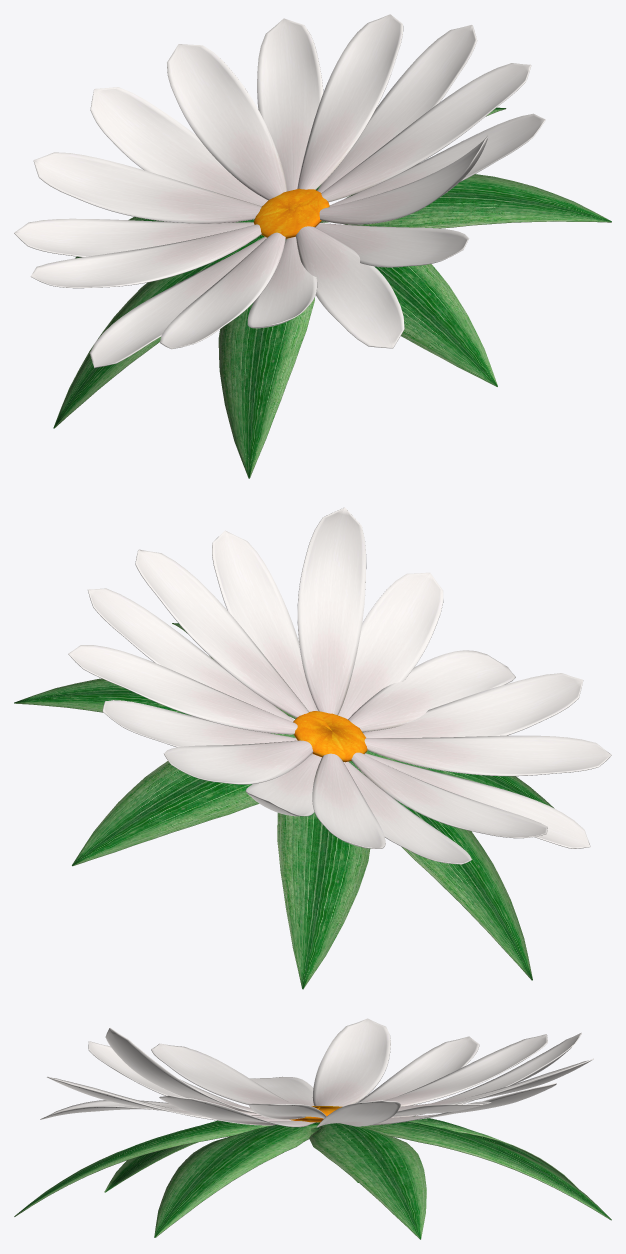
Rendered from white flower.fbx.
3 views of the same model, one above another, from view 1: azimuth 30°, elevation 25°; view 2: azimuth 150°, elevation 25°; view 3: azimuth 270°, elevation 25° (orthographic).
Parts seen in each view (by area): view 1: white_flower.001; view 2: white_flower.001; view 3: white_flower.001.
Part boxes in pixels (x1,y1,x2,y2): white_flower.001: (14,14,611,478); white_flower.001: (14,507,611,989); white_flower.001: (14,1018,611,1239).
Size of the model in its own units: 14.9 by 8.62 by 15.21.
